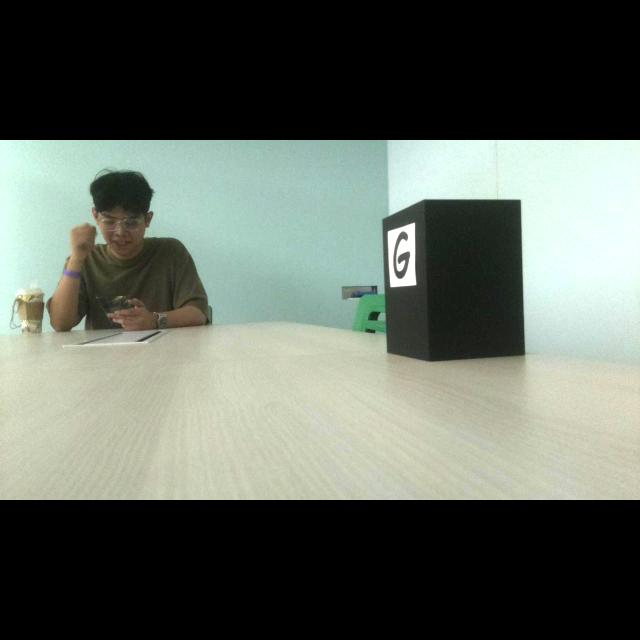G: (393, 231, 410, 279)
